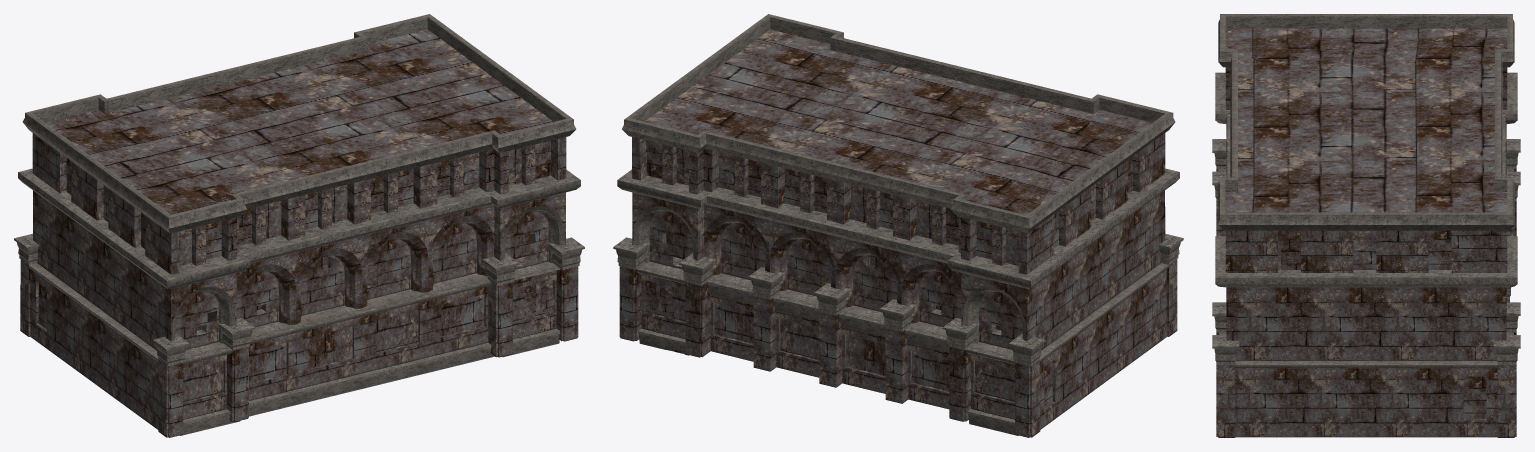
The model's file is Roof_Warehouse_.fbx.
3 views of the same model, side by side, from view 1: azimuth 30°, elevation 25°; view 2: azimuth 150°, elevation 25°; view 3: azimuth 270°, elevation 25° (orthographic).
Visible parts, largest first — view 1: roof:roof_0, roof:roof_1, roof:roof_7, roof:roof_8, roof:roof_3, roof:roof_4, roof:roof_5; view 2: roof:roof_0, roof:roof_1, roof:roof_7, roof:roof_8, roof:roof_4, roof:roof_3, roof:roof_5; view 3: roof:roof_0, roof:roof_7, roof:roof_1, roof:roof_4.
Part boxes in pixels (x1,y1,x2,y2): roof:roof_0: (20,133,578,437); roof:roof_1: (14,14,584,435); roof:roof_7: (45,29,553,214); roof:roof_8: (175,211,548,349); roof:roof_3: (183,280,552,401); roof:roof_4: (38,140,550,328); roof:roof_5: (524,277,556,319); roof:roof_0: (619,133,1177,437); roof:roof_1: (613,14,1183,435); roof:roof_7: (645,29,1152,214); roof:roof_8: (649,211,1022,349); roof:roof_4: (647,140,1132,407); roof:roof_3: (656,283,1015,401); roof:roof_5: (644,280,674,319); roof:roof_0: (1216,67,1516,437); roof:roof_7: (1225,28,1507,212); roof:roof_1: (1212,14,1520,368); roof:roof_4: (1281,230,1486,418).
Bounding box in the file's own units: 61.02 × 31.05 × 38.24.
Materials: 2 (2 with a texture image).
